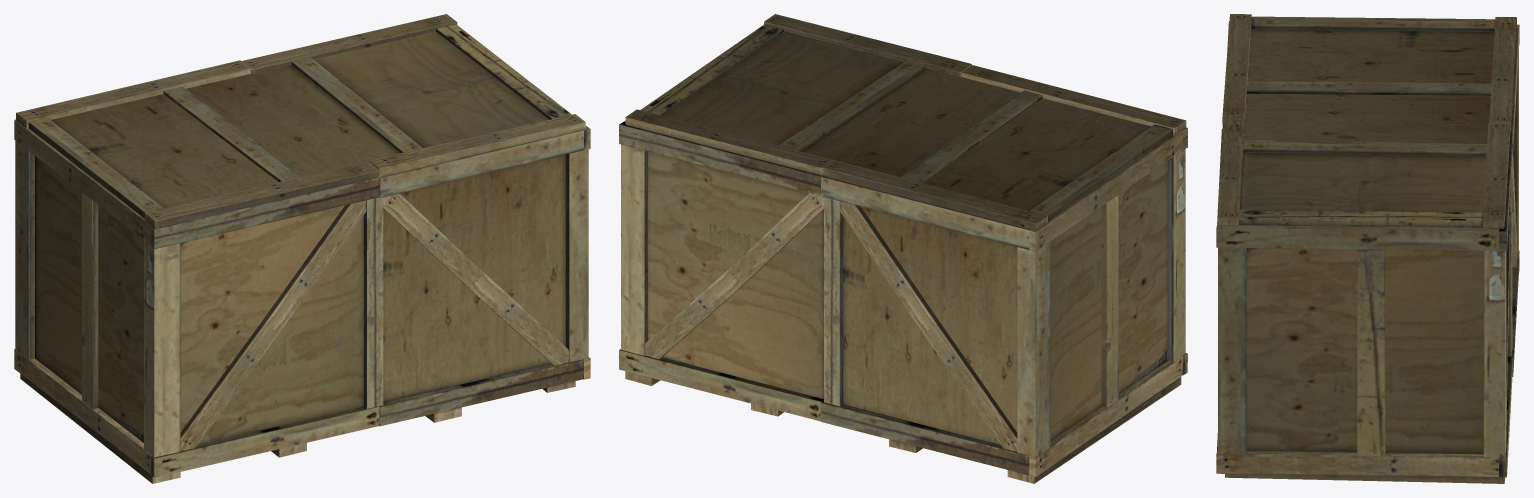
The model's file is big_wood_box.fbx.
The picture shows the model from 3 angles, left to right: view 1: azimuth 30°, elevation 25°; view 2: azimuth 150°, elevation 25°; view 3: azimuth 270°, elevation 25°; orthographic projection.
Visible parts, largest first — view 1: big_wood_box.001; view 2: big_wood_box.001; view 3: big_wood_box.001.
Part boxes in pixels (x1=…): big_wood_box.001: x1=14, y1=14, x2=590, y2=483; big_wood_box.001: x1=619, y1=14, x2=1187, y2=483; big_wood_box.001: x1=1216, y1=14, x2=1519, y2=483.
Bounding box in the file's own units: 1.76 × 1.02 × 1.07.
1 material, 1 textured.
